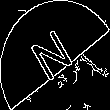N_SE: (28, 22, 82, 88)
